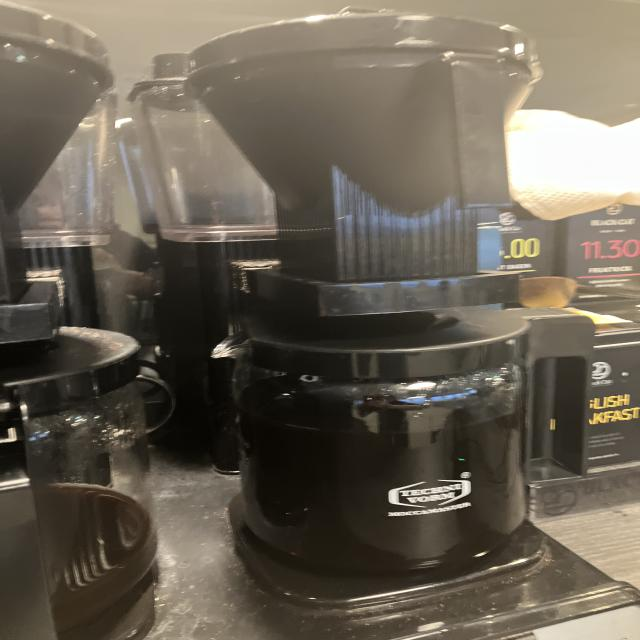coffee: (224, 296, 572, 575), (0, 311, 169, 632)
